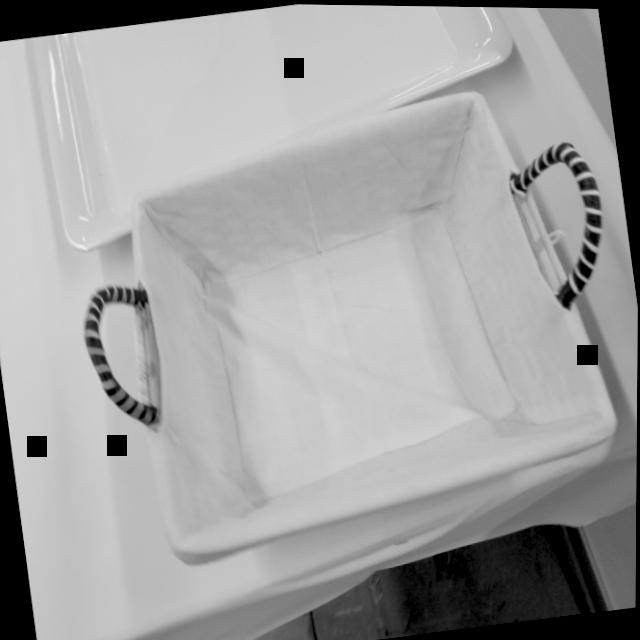basket: (58, 67, 640, 615)
tray: (22, 0, 548, 257)
